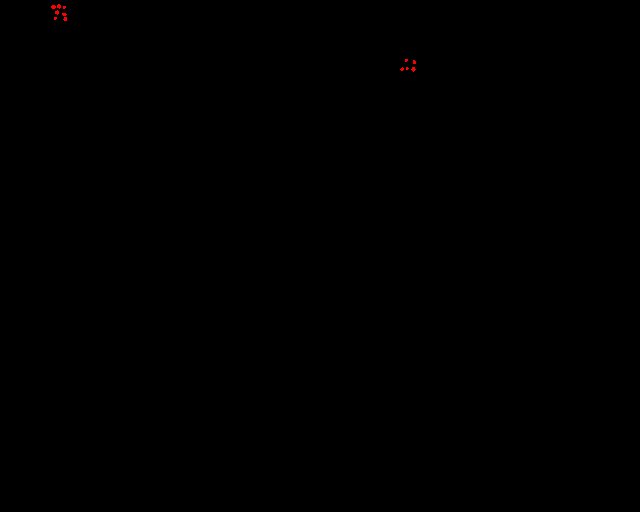Target: (411, 67, 416, 72), (57, 4, 61, 9), (51, 5, 56, 9), (55, 10, 59, 15), (63, 17, 67, 21), (400, 67, 404, 71), (62, 13, 67, 16), (413, 60, 416, 64), (63, 6, 66, 9), (54, 17, 57, 20), (405, 59, 408, 62), (406, 67, 409, 70)
